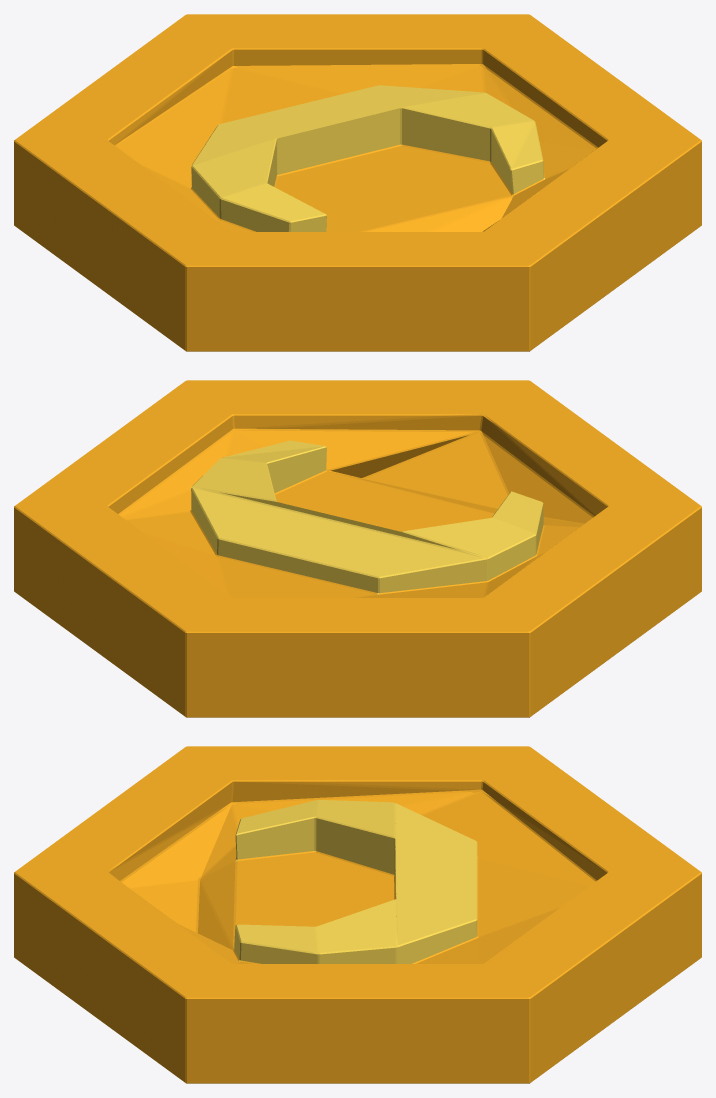
File: Coin 1.fbx
The picture shows the model from 3 angles, top to bottom: view 1: azimuth 30°, elevation 25°; view 2: azimuth 150°, elevation 25°; view 3: azimuth 270°, elevation 25°; orthographic projection.
Parts seen in each view (by area): view 1: Coin 1; view 2: Coin 1; view 3: Coin 1.
Boxes of the visible parts, <box> form: Coin 1: <box>14,14,701,351</box>; Coin 1: <box>14,380,701,717</box>; Coin 1: <box>14,746,701,1083</box>.
Size of the model in its own units: 129 by 21.46 by 149.
